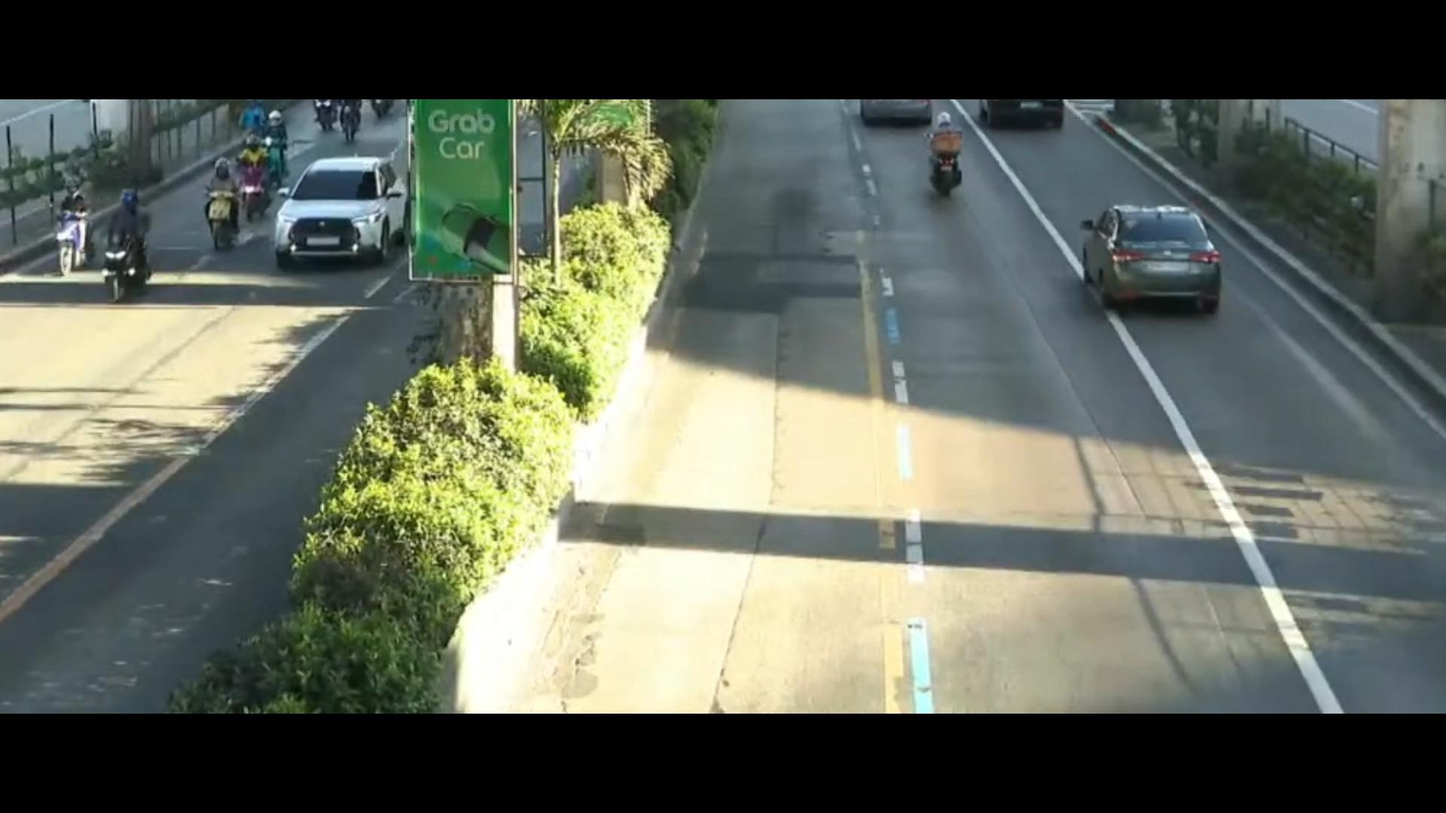Motorcycle: (97, 194, 172, 291), (918, 108, 983, 205), (47, 177, 97, 284), (230, 134, 280, 221), (206, 172, 257, 247), (266, 119, 290, 173), (338, 111, 373, 139)
SUV: (275, 148, 403, 275)
Sedan: (1070, 192, 1255, 320)
